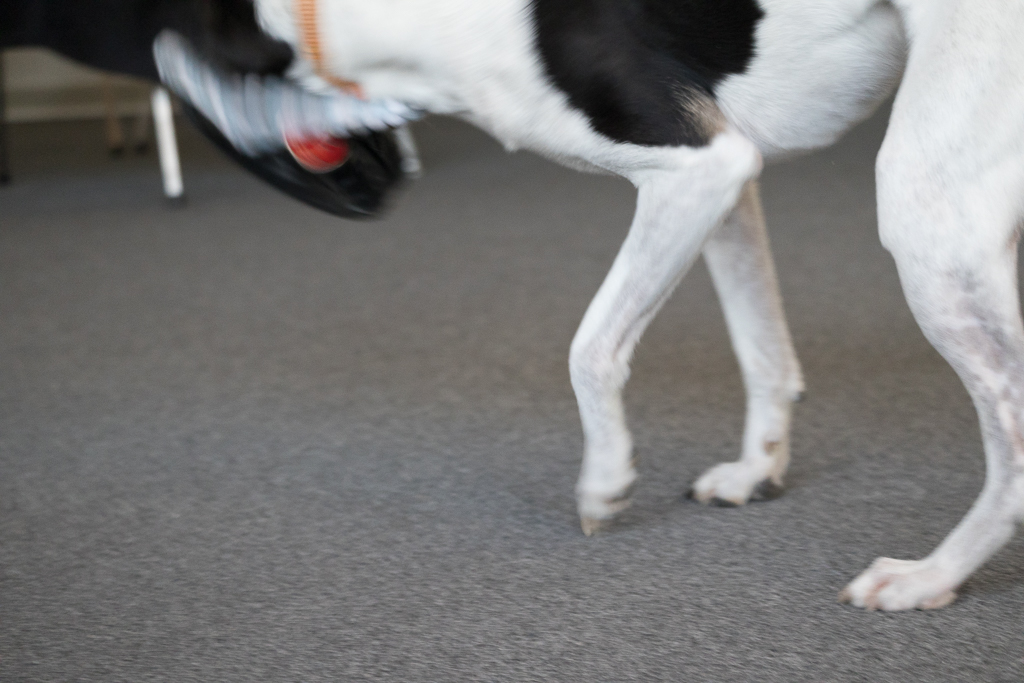Dog: (32, 0, 1024, 614)
